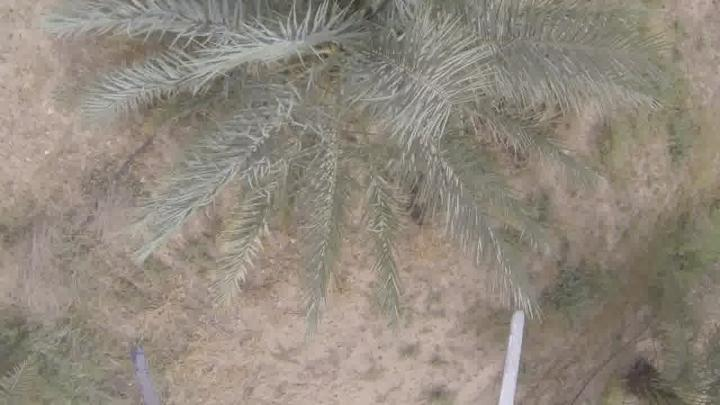Date-Palm-Crown: (182, 1, 500, 184)
